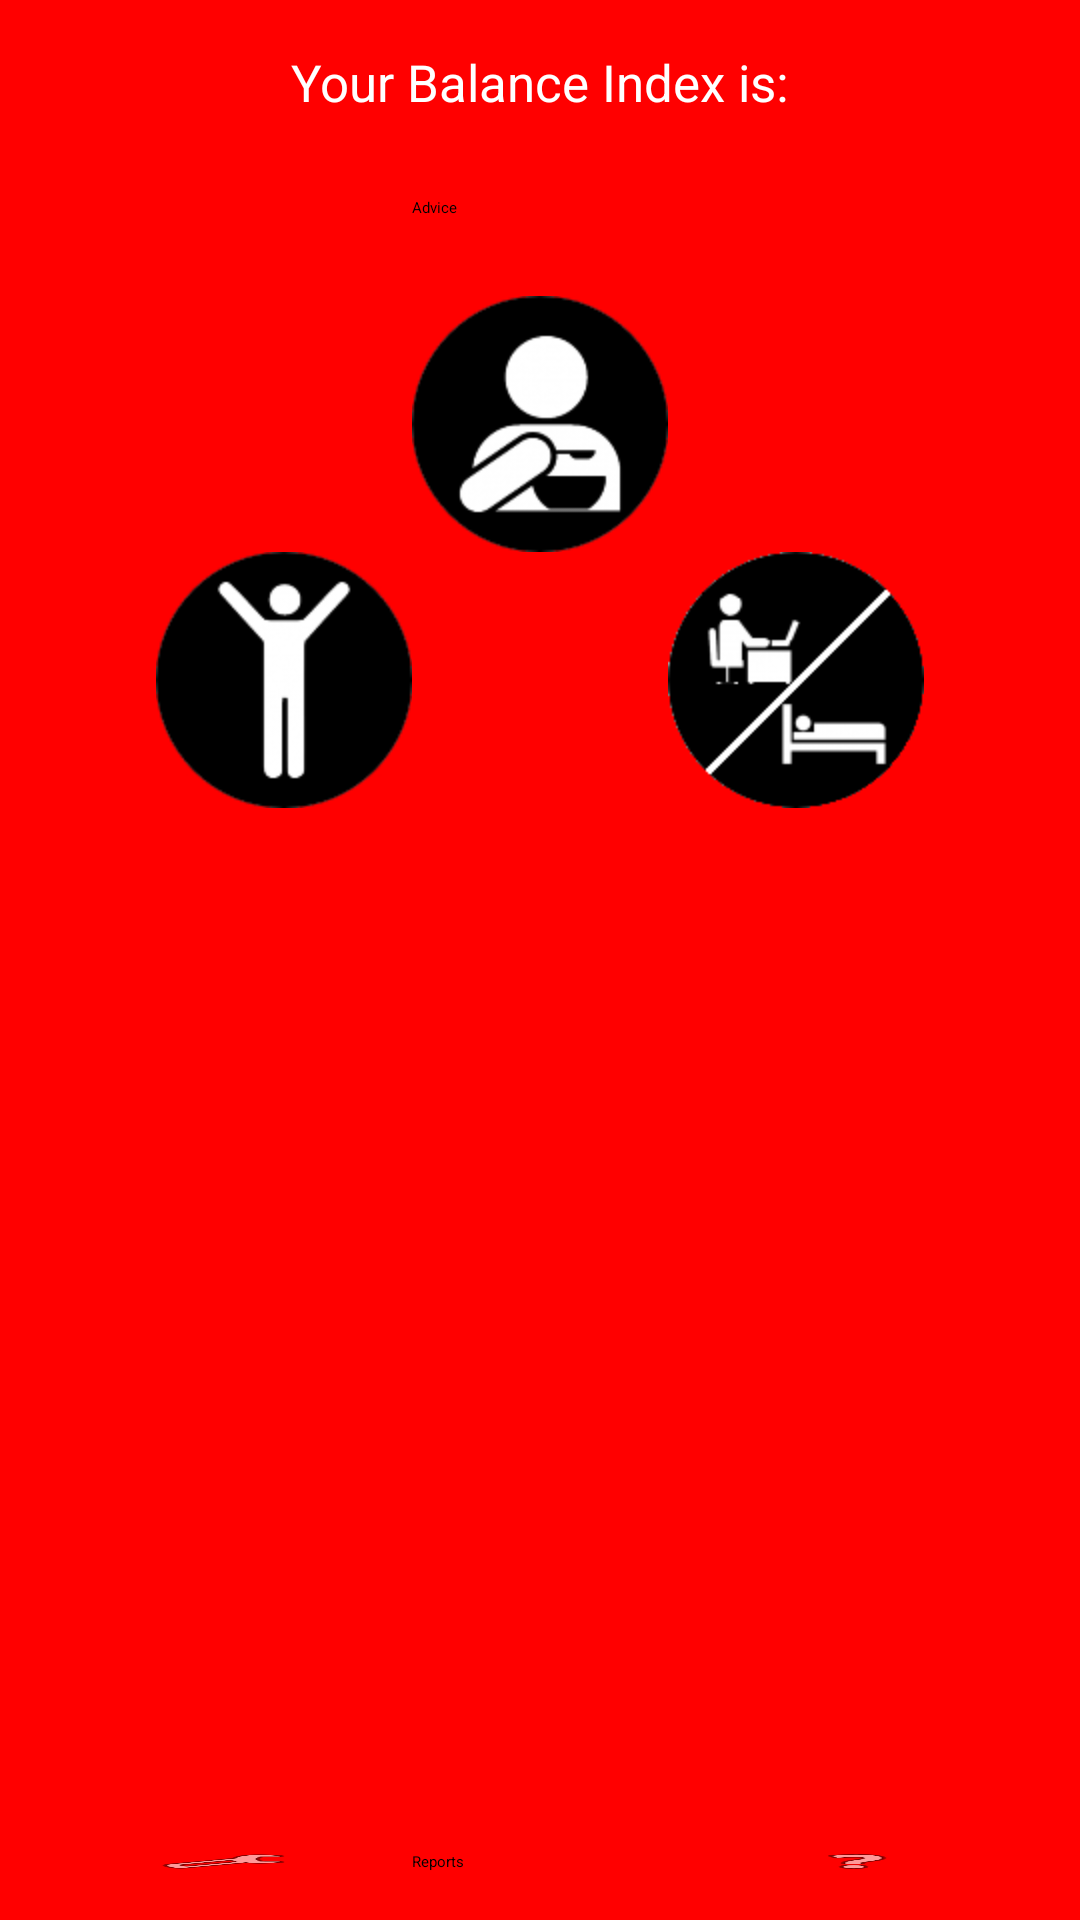

Where icons sit on this 1080*1920 app screen, as (x1, y1, x2, y2):
Eat: (412, 296, 668, 552)
Exercise: (156, 552, 412, 808)
Work/Sleep: (668, 552, 924, 808)
